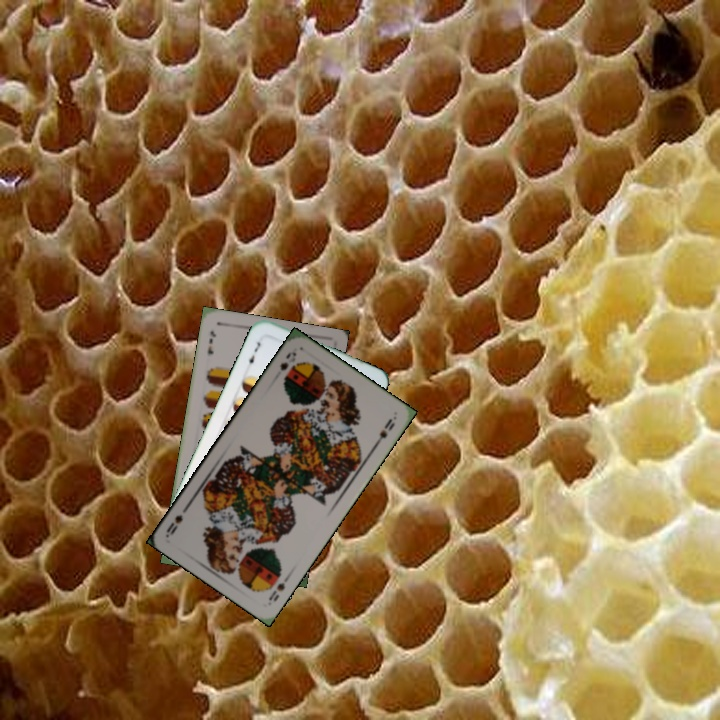E7: (243, 338, 263, 369), (204, 327, 219, 357)
SO: (264, 571, 293, 604), (276, 347, 299, 373)
